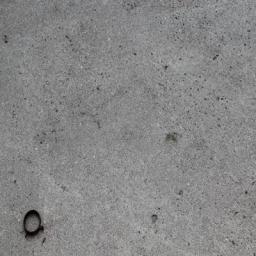FOD: (22, 207, 49, 243)
